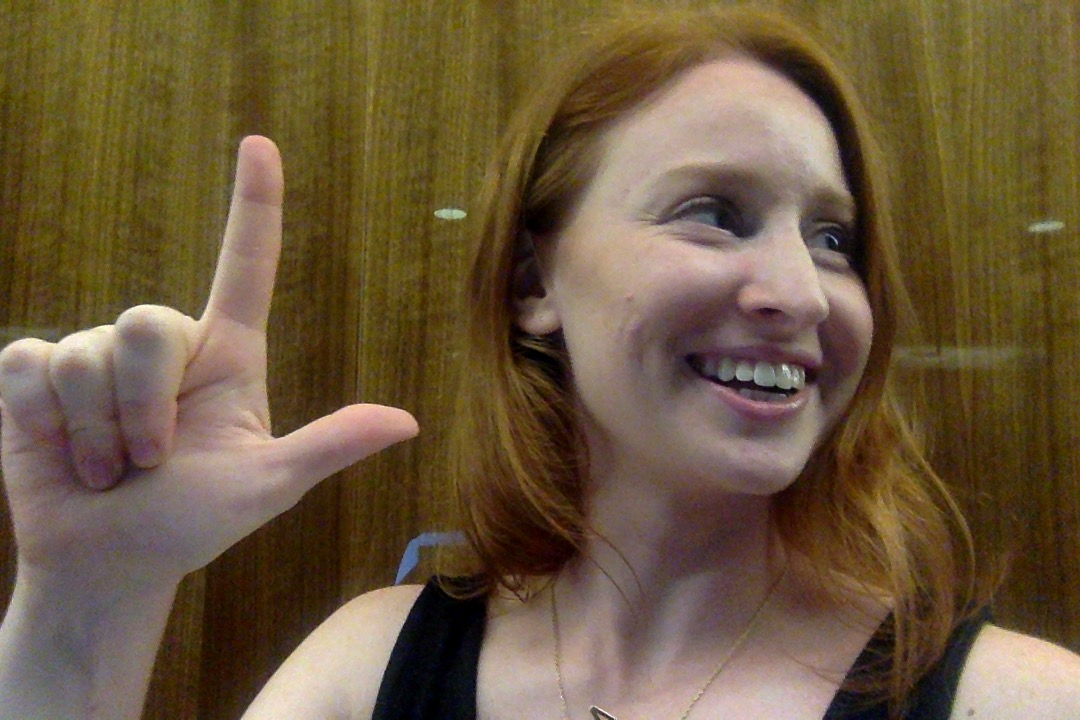l: (2, 134, 427, 573)
